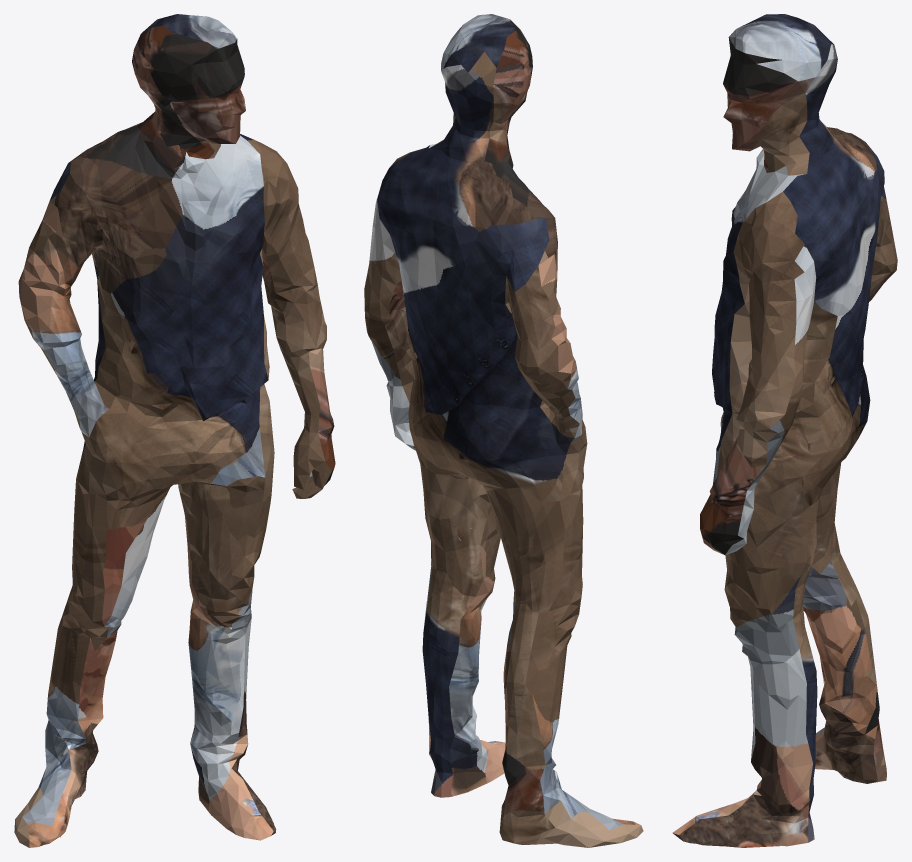
Rendered from man_2.glb.
The picture shows the model from 3 angles, left to right: view 1: azimuth 30°, elevation 25°; view 2: azimuth 150°, elevation 25°; view 3: azimuth 270°, elevation 25°; orthographic projection. The views are drawn at different scales.
Visible parts, largest first — view 1: man_2; view 2: man_2; view 3: man_2.
Boxes of the visible parts, <box> form: man_2: <box>14,14,335,847</box>; man_2: <box>364,14,643,847</box>; man_2: <box>672,14,897,847</box>.
Size of the model in its own units: 0.6697 by 1.75 by 0.4459.
1 material, 1 textured.
